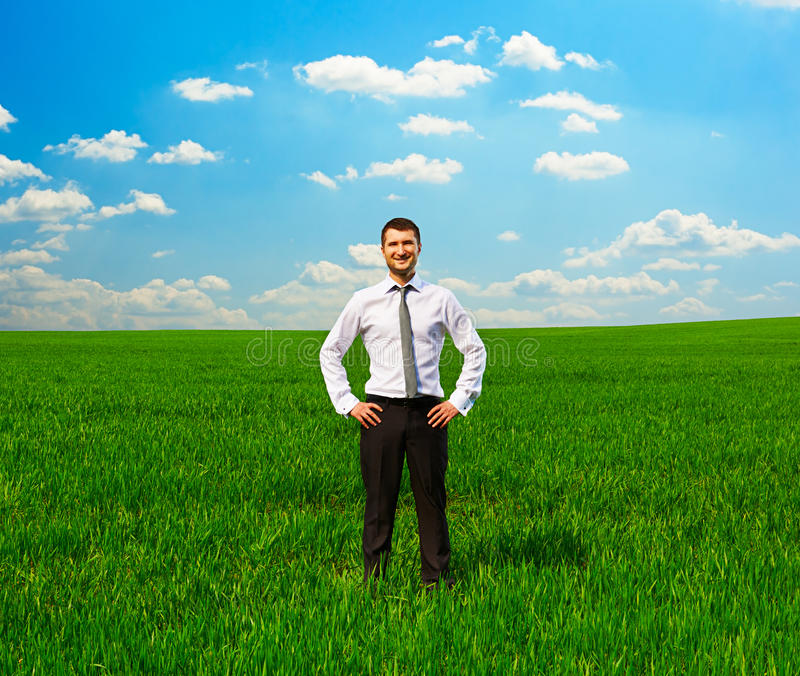person: (321, 216, 487, 578)
